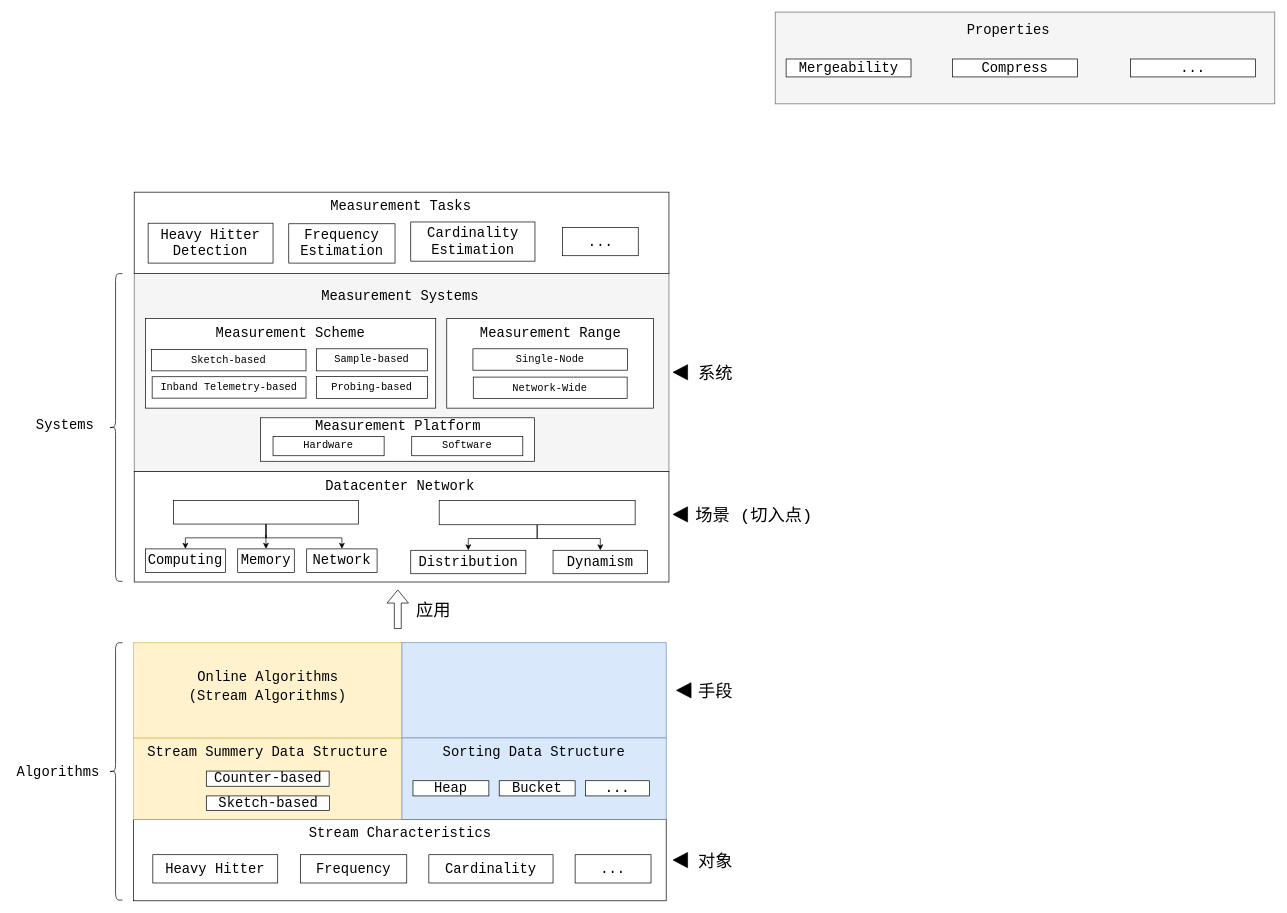
This 1287x913 diagram has some shape labels left out. Each missing label, with the box of its shape:
Flow Characteristics: (438, 500, 635, 525)
Offline Algorithms: (401, 642, 666, 738)
Resource Restrictions: (173, 500, 358, 524)
